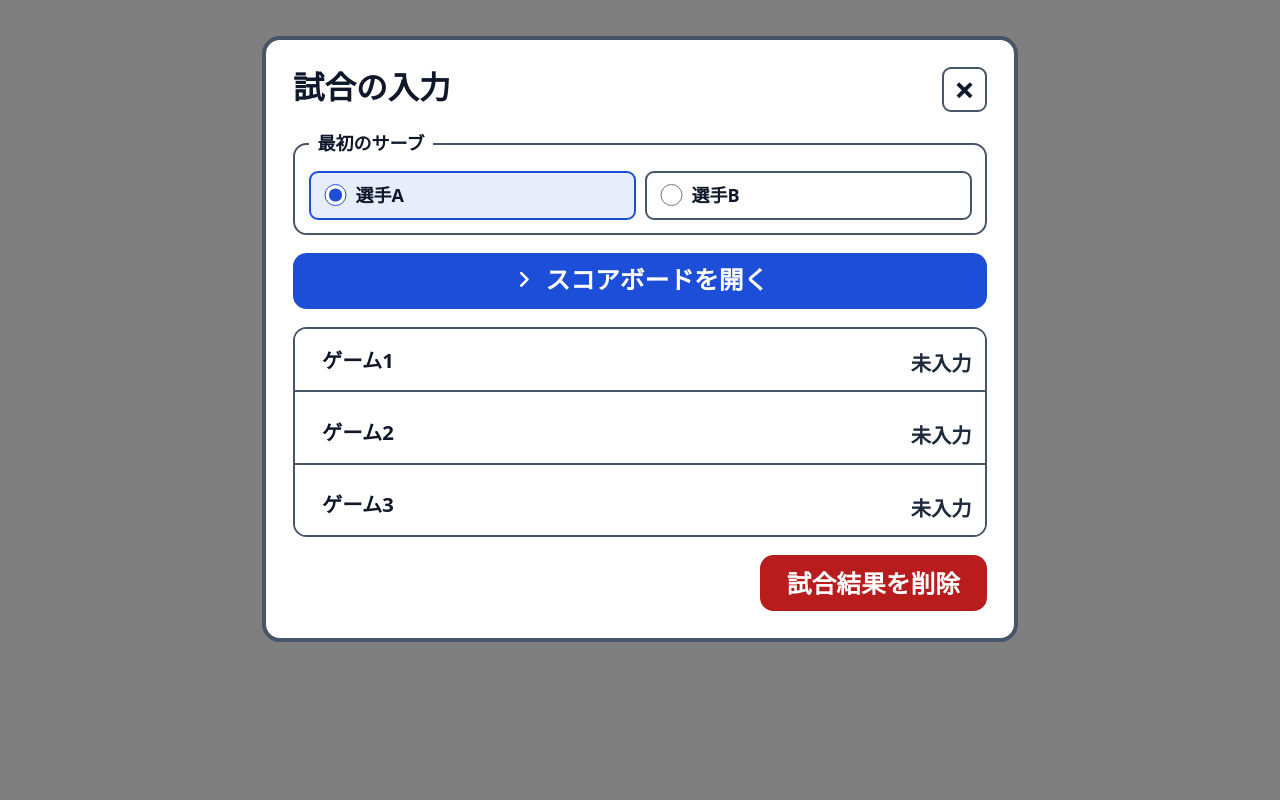
it: MatchModal › スコアボードを開くボタンでScoreboardScreenが出る
Expected: the number of dialogs is 1, x1=262 y1=36 x2=1018 y2=642
Click the button "スコアボードを開く": {"x": 640, "y": 281} x1=293 y1=253 x2=987 y2=309
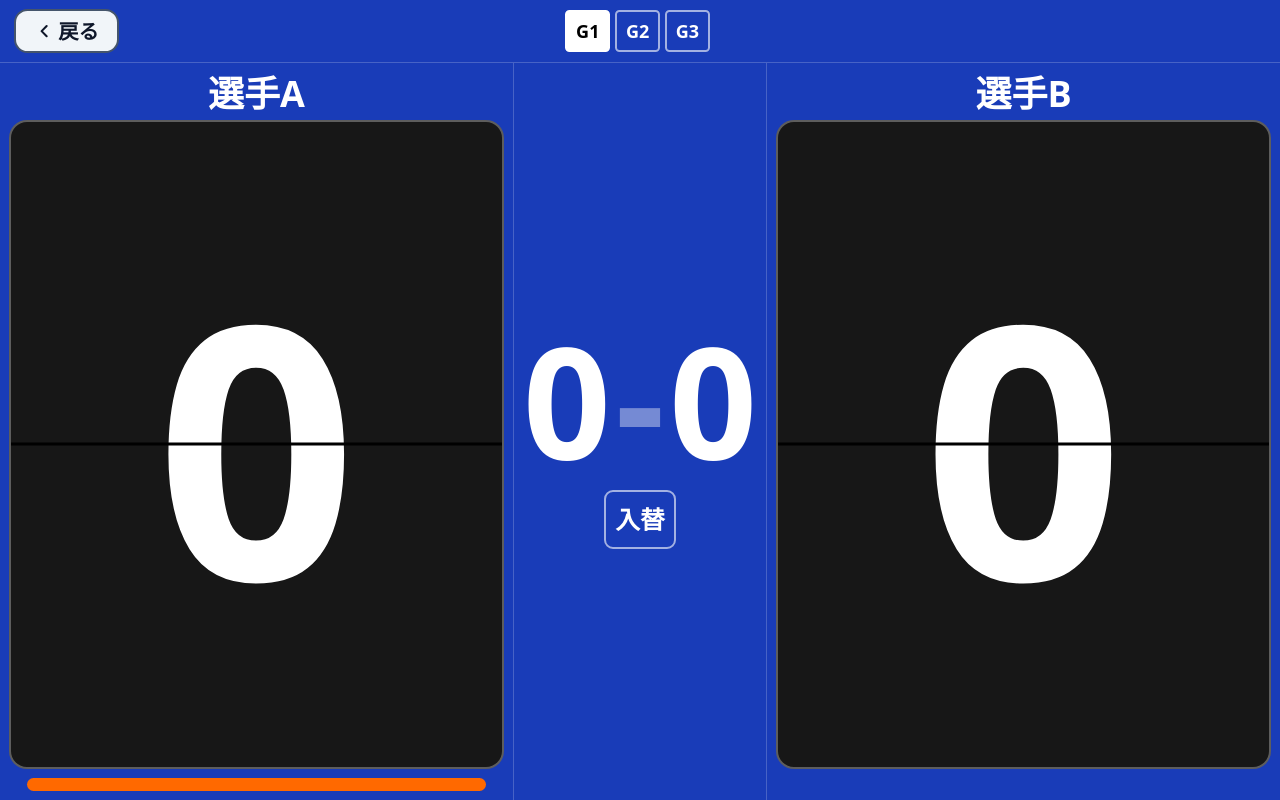
Expected: the number of dialogs is 2, x1=262 y1=36 x2=1018 y2=642; x1=0 y1=0 x2=1279 y2=799
Result: the button "戻る" is shown at x1=14 y1=9 x2=119 y2=53
